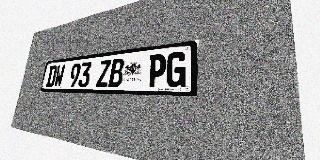3: (78, 61, 92, 87)
9: (68, 63, 82, 87)
B: (108, 58, 125, 87)
D: (46, 65, 57, 87)
G: (165, 51, 187, 88)
P: (147, 53, 167, 87)
W: (53, 64, 66, 87)
Z: (96, 59, 112, 87)
